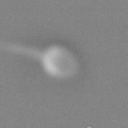normal: (1, 33, 44, 60)
